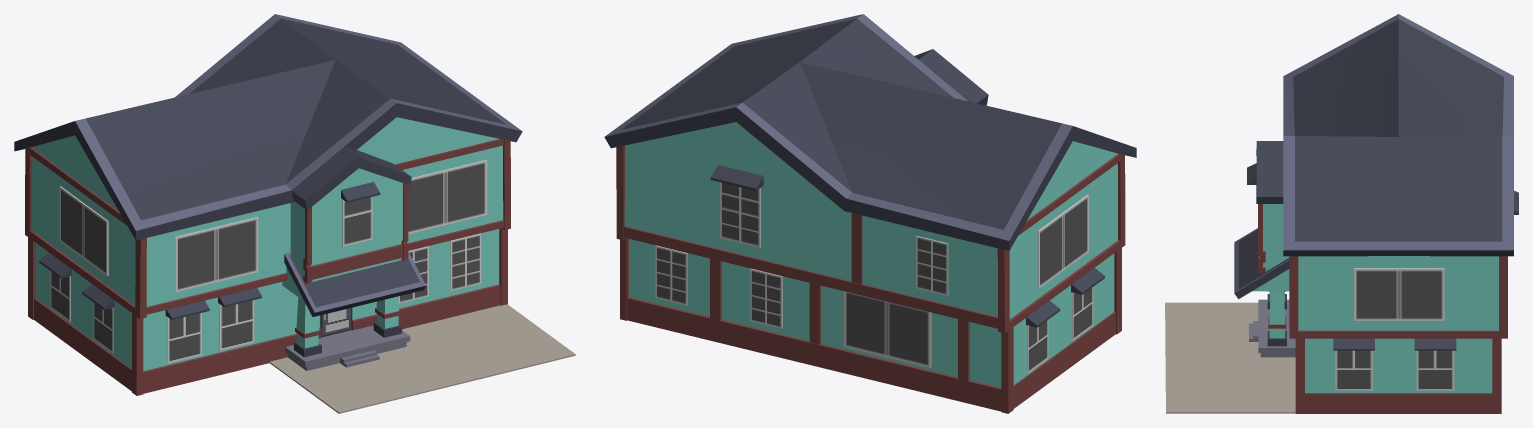
Rendered from house04_color02.fbx.
The picture shows the model from 3 angles, left to right: view 1: azimuth 30°, elevation 25°; view 2: azimuth 150°, elevation 25°; view 3: azimuth 270°, elevation 25°; orthographic projection. The views are drawn at different scales.
Visible parts, largest first — view 1: Cube.404, Cube.405; view 2: Cube.404; view 3: Cube.404, Cube.405.
Boxes of the visible parts, x1,y1,x2,y2 form: Cube.404: (14, 14, 522, 395); Cube.405: (269, 304, 575, 413); Cube.404: (604, 14, 1136, 413); Cube.404: (1234, 14, 1518, 413); Cube.405: (1165, 302, 1295, 413).
Bounding box in the file's own units: 1569 × 917 × 1309.
